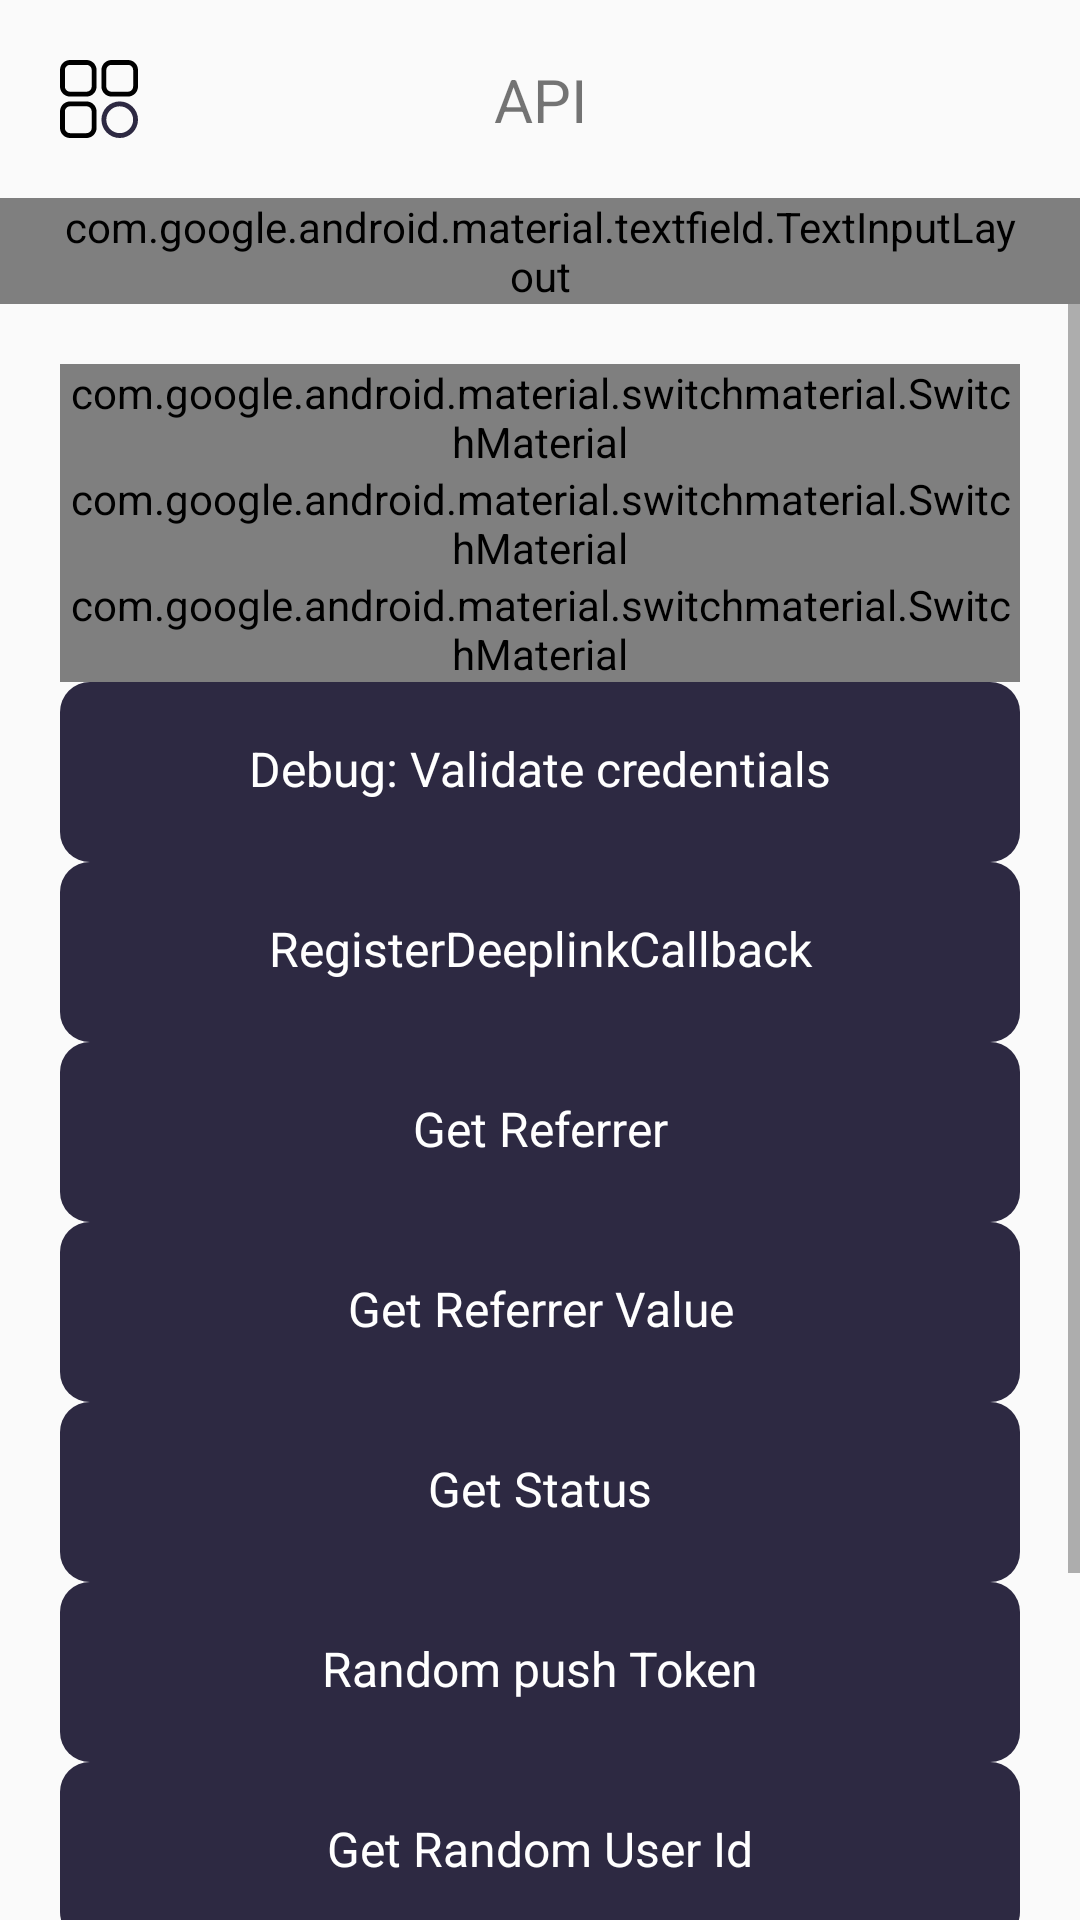

Locate icon controls on the screen. Image size 1080 x 1920, boxes as bbox=(x1, y1, x2, y2).
home menu: bbox=(60, 60, 138, 138)
